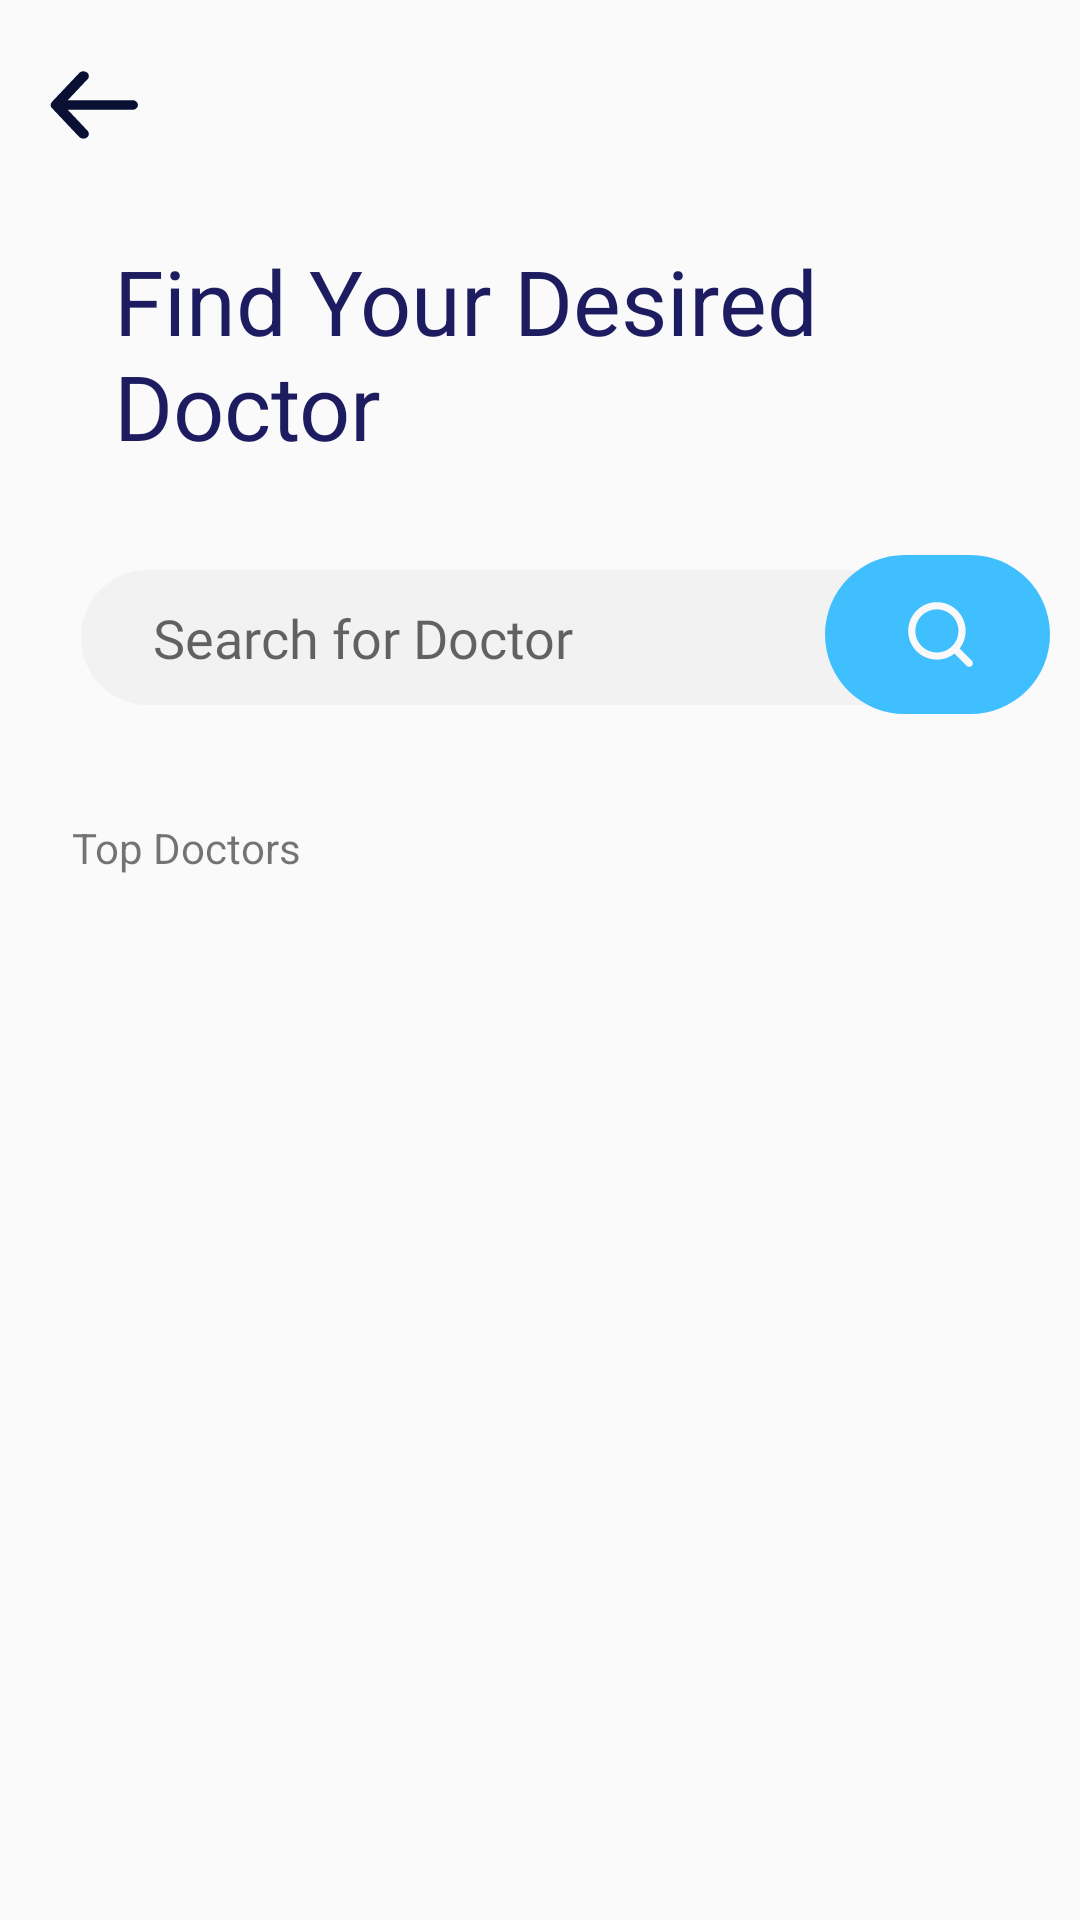

Icon bounding boxes for this 1080×1920 phone screenshot, format (x1, y1, x2, y2):
backicon: (50, 71, 138, 139)
